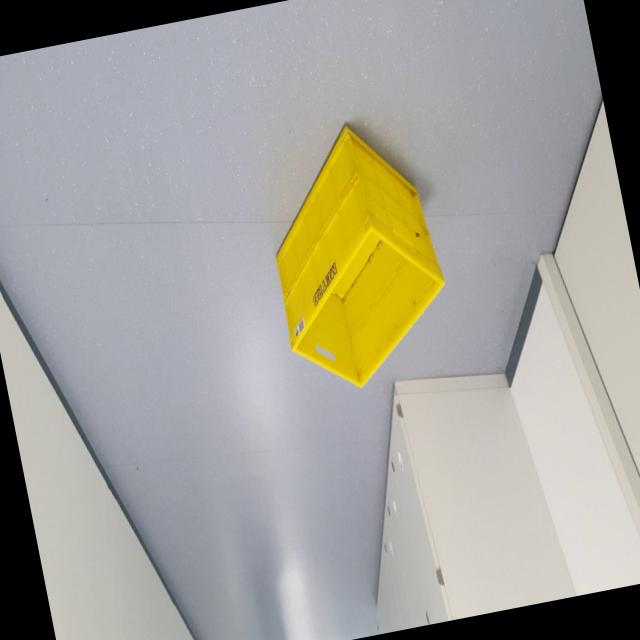box: (224, 86, 468, 408)
